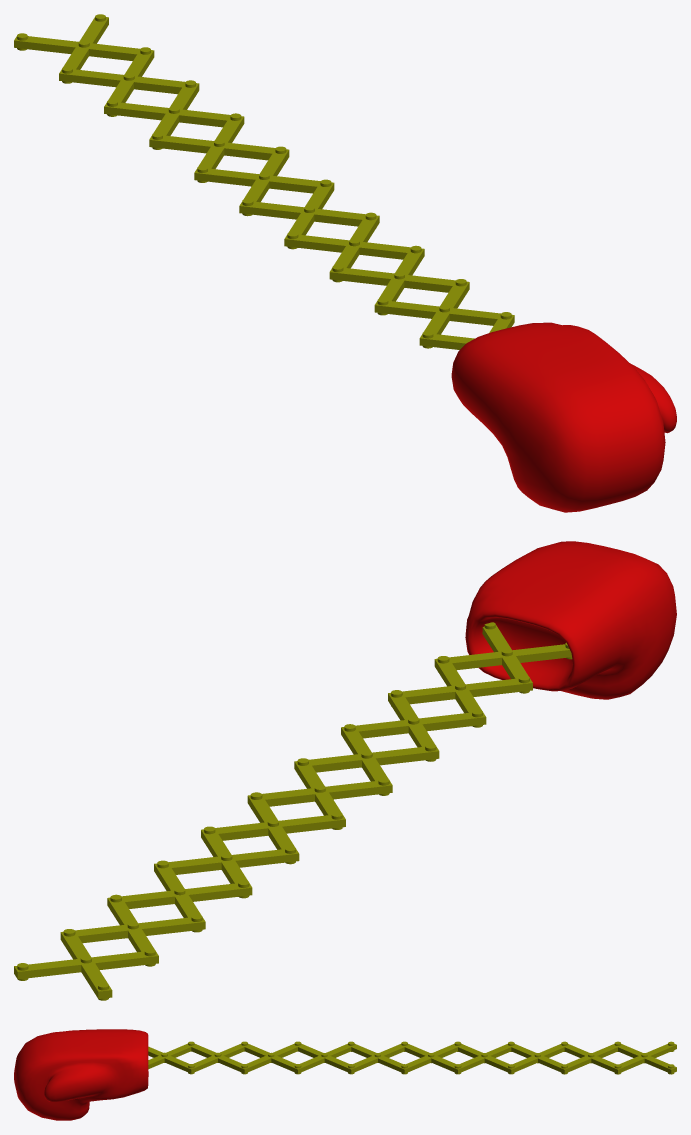
File: spring_glove.gltf
3 views of the same model, one above another, from view 1: azimuth 30°, elevation 25°; view 2: azimuth 150°, elevation 25°; view 3: azimuth 270°, elevation 25° (orthographic). The views are drawn at different scales.
Parts seen in each view (by area): view 1: Glove, Cube; view 2: Cube, Glove; view 3: Glove, Cube.
Part boxes in pixels (x1=…): Glove: x1=451, y1=322, x2=676, y2=512; Cube: x1=14, y1=14, x2=514, y2=349; Cube: x1=14, y1=622, x2=572, y2=1000; Glove: x1=465, y1=541, x2=676, y2=699; Glove: x1=14, y1=1029, x2=148, y2=1120; Cube: x1=148, y1=1041, x2=676, y2=1074.
Size of the model in its own units: 2.45 by 1.94 by 15.88.
2 materials, 2 textured.
